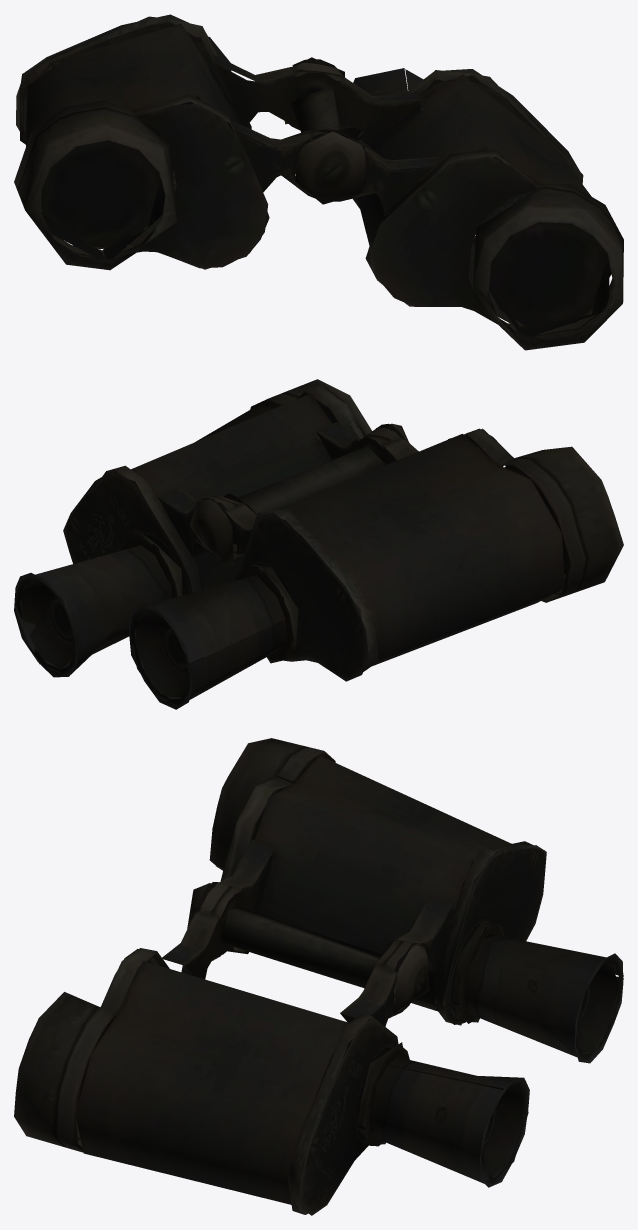
Rendered from binocolo.glb.
3 renders of one model, top to bottom at view 1: azimuth 30°, elevation 25°; view 2: azimuth 150°, elevation 25°; view 3: azimuth 270°, elevation 25°, orthographic. The views are drawn at different scales.
Parts seen in each view (by area): view 1: Cylinder.014; view 2: Cylinder.014; view 3: Cylinder.014.
Boxes of the visible parts, box(x1,y1,x2,y2) form: Cylinder.014: box(14, 14, 623, 350); Cylinder.014: box(14, 379, 623, 709); Cylinder.014: box(14, 738, 623, 1215).
Bounding box in the file's own units: 1016 × 439 × 960.
Materials: 1 (1 with a texture image).
